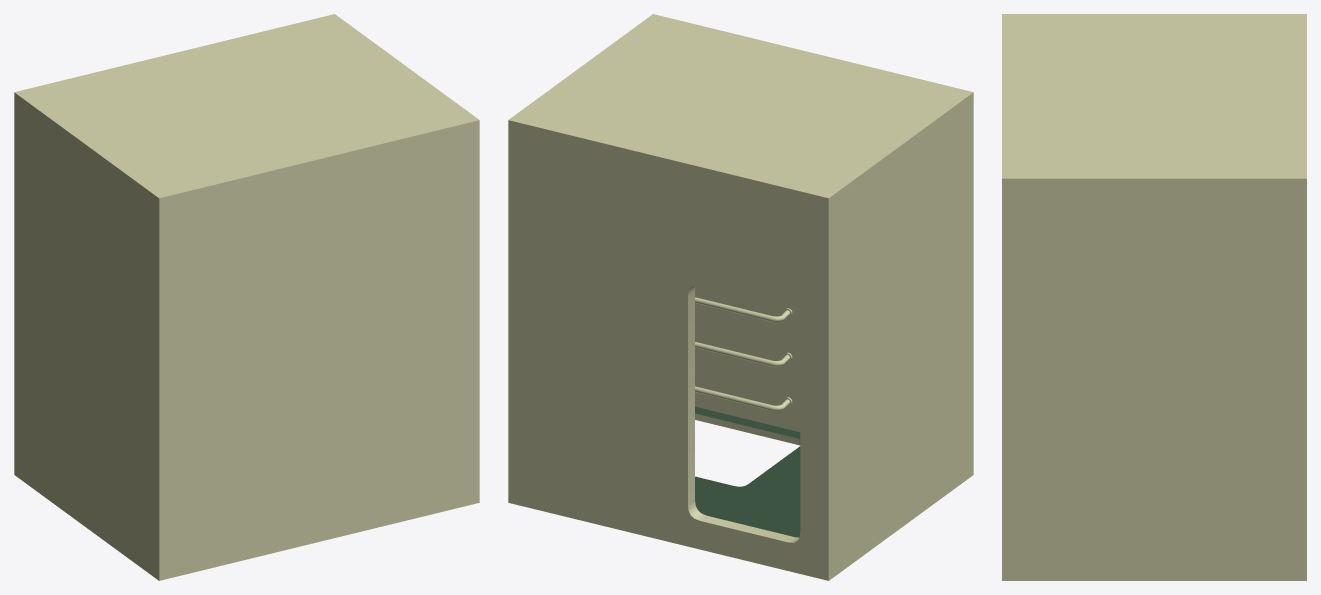
File: escapeTrunk01.fbx
3 views of the same model, side by side, from view 1: azimuth 30°, elevation 25°; view 2: azimuth 150°, elevation 25°; view 3: azimuth 270°, elevation 25° (orthographic). The views are drawn at different scales.
Parts seen in each view (by area): view 1: escapeTrunk01; view 2: escapeTrunk01; view 3: escapeTrunk01.
Boxes of the visible parts, x1,y1,x2,y2 form: escapeTrunk01: [14, 14, 479, 580]; escapeTrunk01: [508, 14, 973, 580]; escapeTrunk01: [1002, 14, 1306, 580].
Size of the model in its own units: 263 by 300 by 206.
